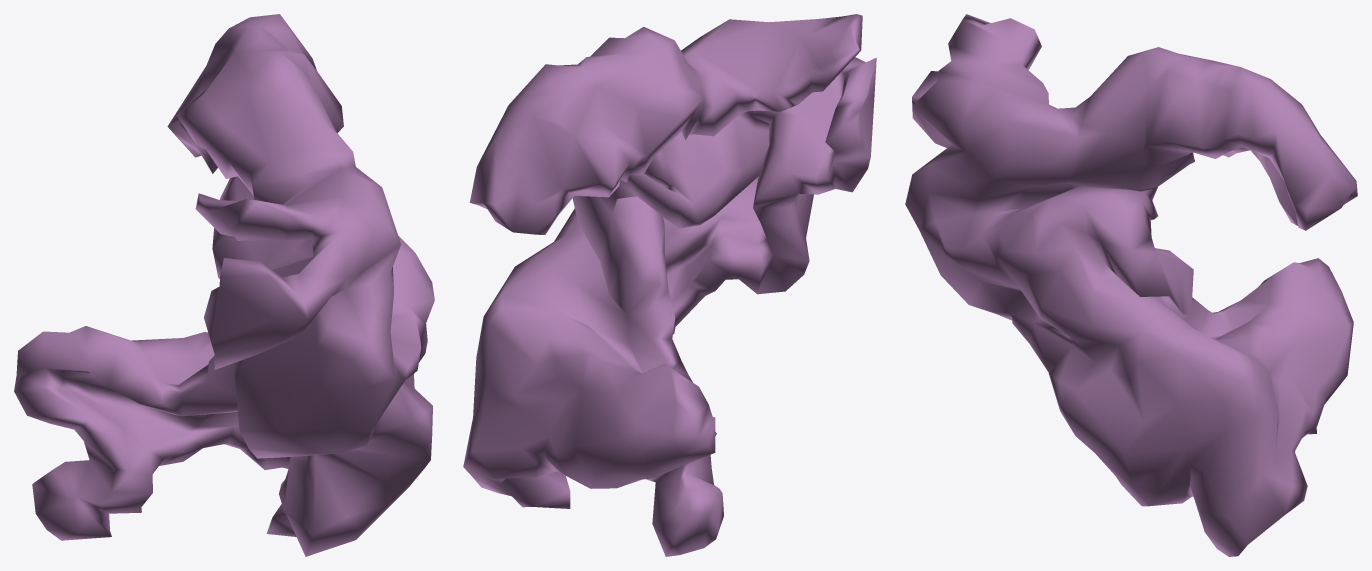
3 views of the same model, side by side, from view 1: azimuth 30°, elevation 25°; view 2: azimuth 150°, elevation 25°; view 3: azimuth 270°, elevation 25° (orthographic). The views are drawn at different scales.
Parts seen in each view (by area): view 1: 左侧缘上回; view 2: 左侧缘上回; view 3: 左侧缘上回.
Boxes of the visible parts, x1=… form: 左侧缘上回: x1=14, y1=14, x2=434, y2=556; 左侧缘上回: x1=463, y1=14, x2=876, y2=556; 左侧缘上回: x1=905, y1=14, x2=1357, y2=556.
Bounding box in the file's own units: 0.0445 × 0.0722 × 0.0648.
